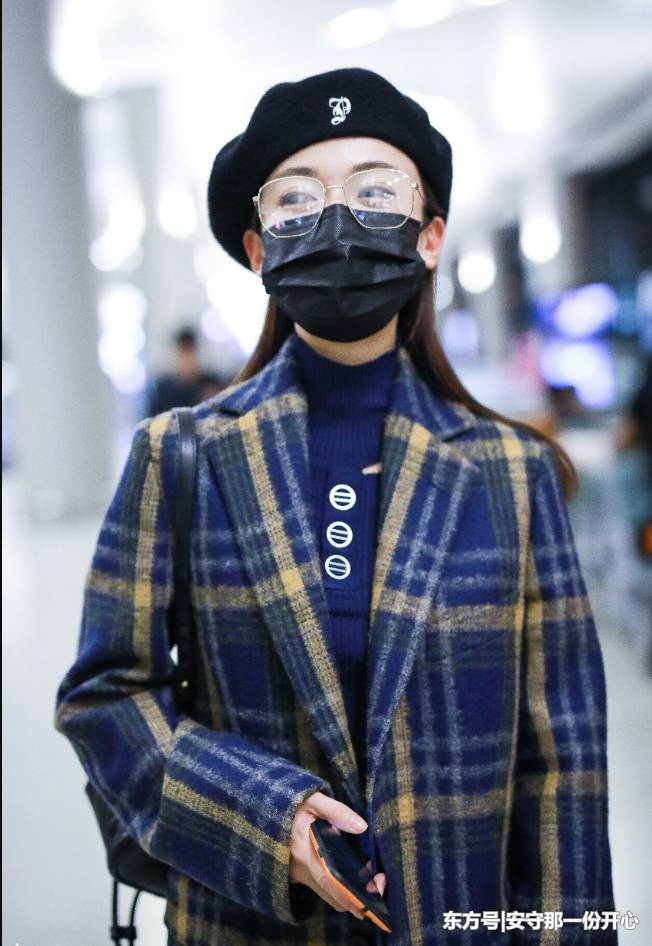mask: (246, 175, 454, 342)
